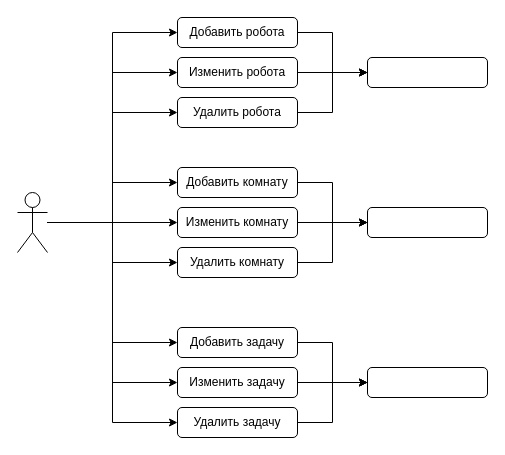
This 505x455 diagram has some shape labels left out. Here are the shapes that lost their labels. From the top down, the centre of each, then its label:
point (427, 72): Посмотреть список роботов
point (32, 222): Actor
point (427, 222): Посмотреть список комнат
point (427, 382): Посмотреть список задач
